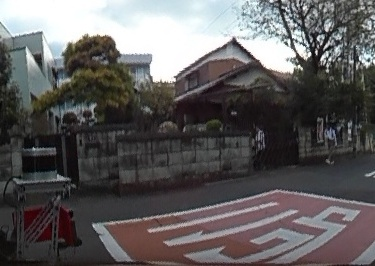person: (323, 122, 336, 164)
